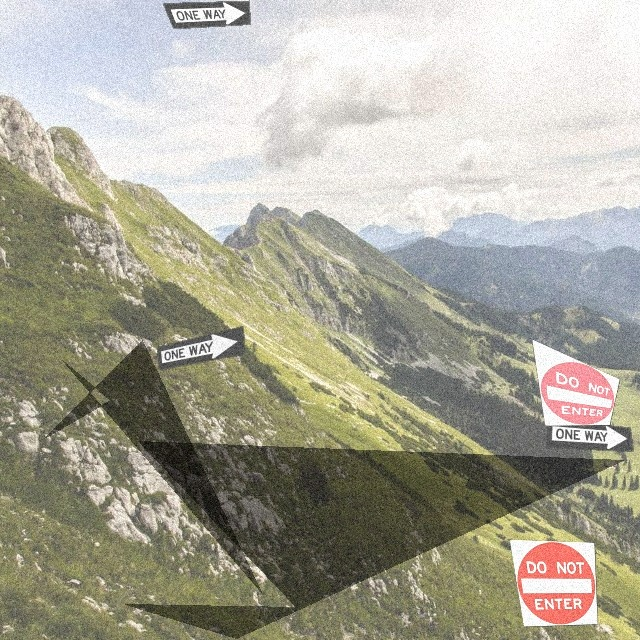DO_NOT_ENTER: (509, 539, 598, 627), (531, 338, 620, 426)
ONE_WAY_ right: (156, 325, 245, 370), (545, 419, 634, 452), (162, 0, 251, 29)
